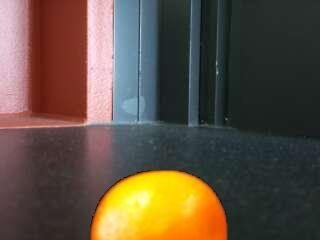Orange: (90, 170, 231, 240)
